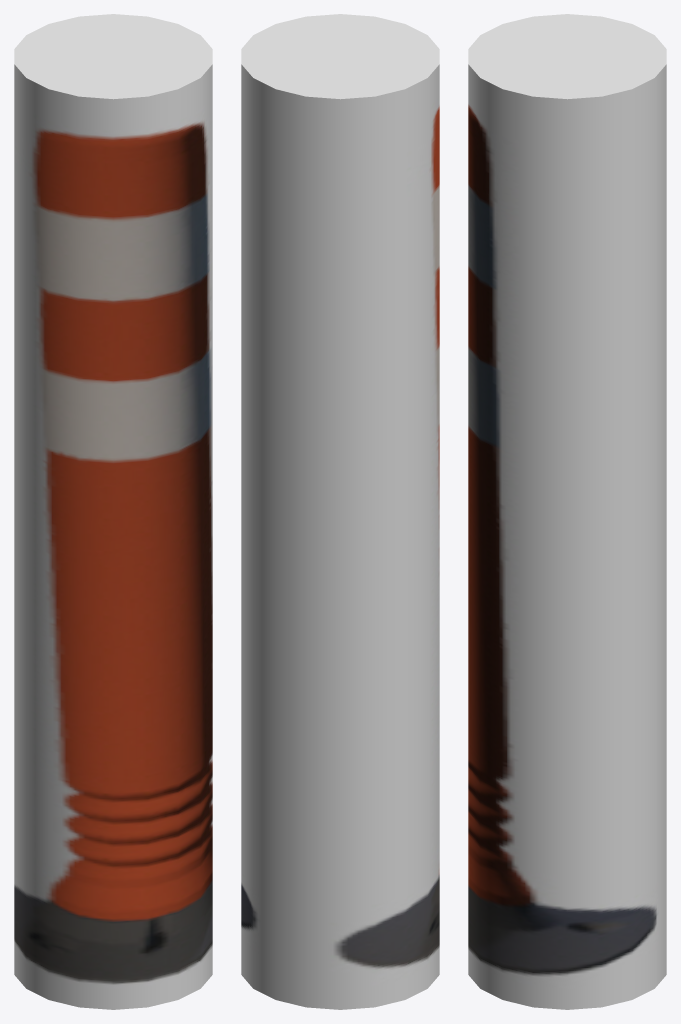
File: Soft_Collider.FBX
The picture shows the model from 3 angles, left to right: view 1: azimuth 30°, elevation 25°; view 2: azimuth 150°, elevation 25°; view 3: azimuth 270°, elevation 25°; orthographic projection.
Parts seen in each view (by area): view 1: Cylinder001; view 2: Cylinder001; view 3: Cylinder001.
Boxes of the visible parts, bbox=[...] form: Cylinder001: bbox=[14, 14, 212, 1009]; Cylinder001: bbox=[241, 14, 439, 1009]; Cylinder001: bbox=[468, 14, 666, 1009].
Size of the model in its own units: 8.18 by 40.79 by 8.06.
1 material, 1 textured.
